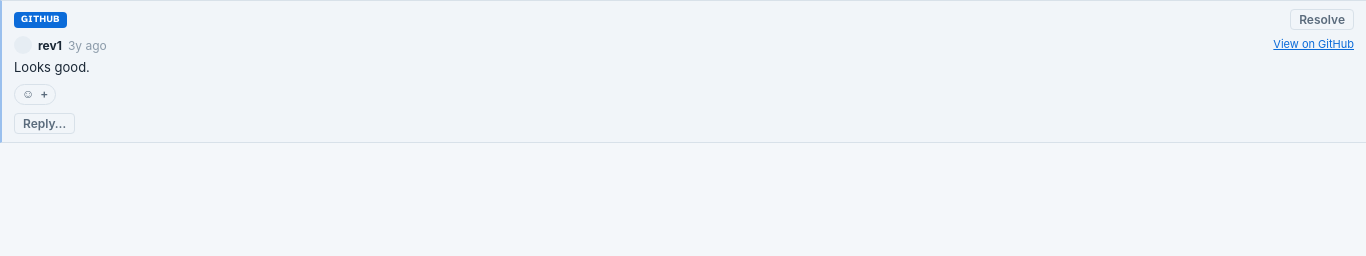
Test case: GithubThread › replies via the composer and closes it on success
Click the button "Reply…" at [45, 123], box [14, 113, 75, 134]
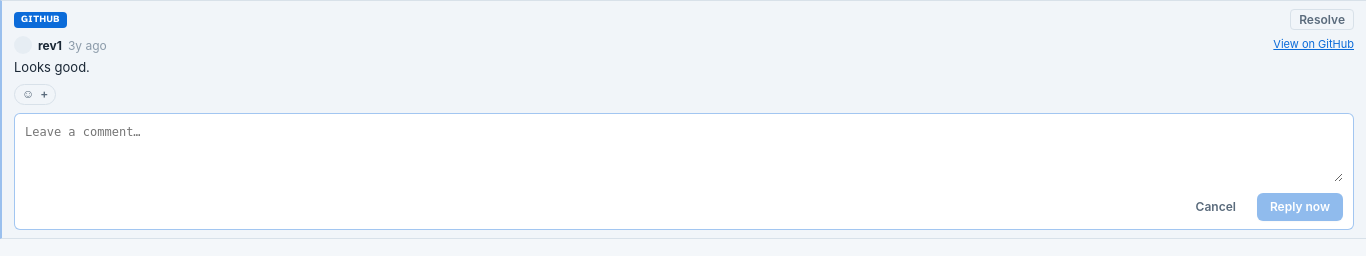
Type "from the app" into the text box with placeholder "Leave a comment…" at [684, 152], box [25, 122, 1343, 182]
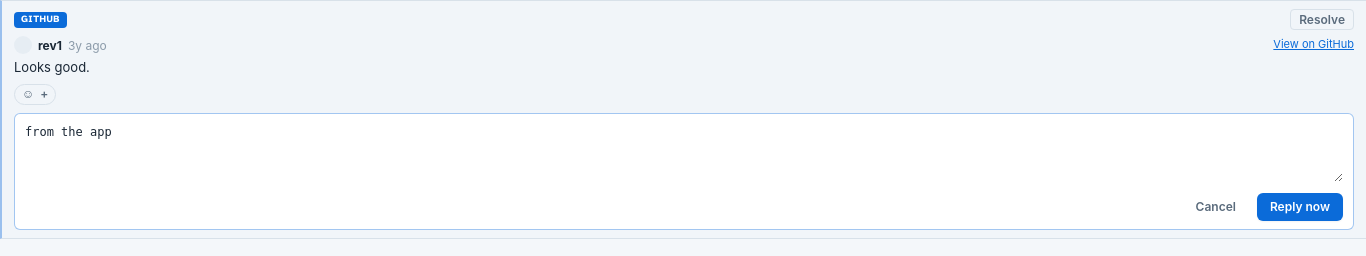
Click the button "Reply now" at [1300, 206], box [1257, 192, 1343, 220]
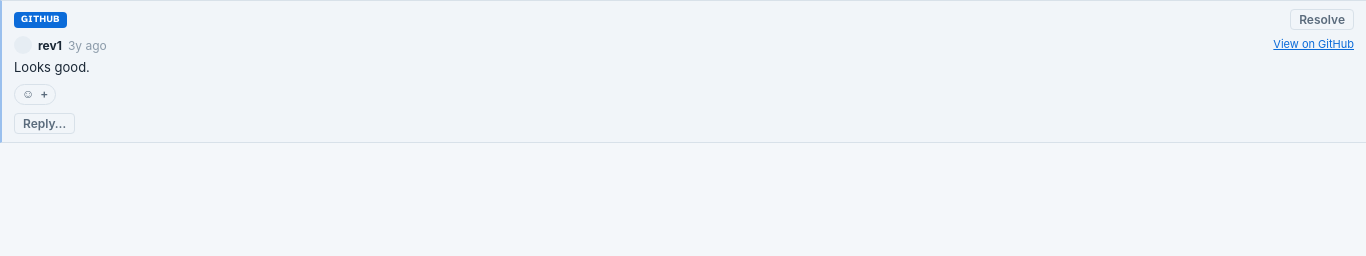
Check: the button "Reply…" is shown, box [14, 113, 75, 134]
